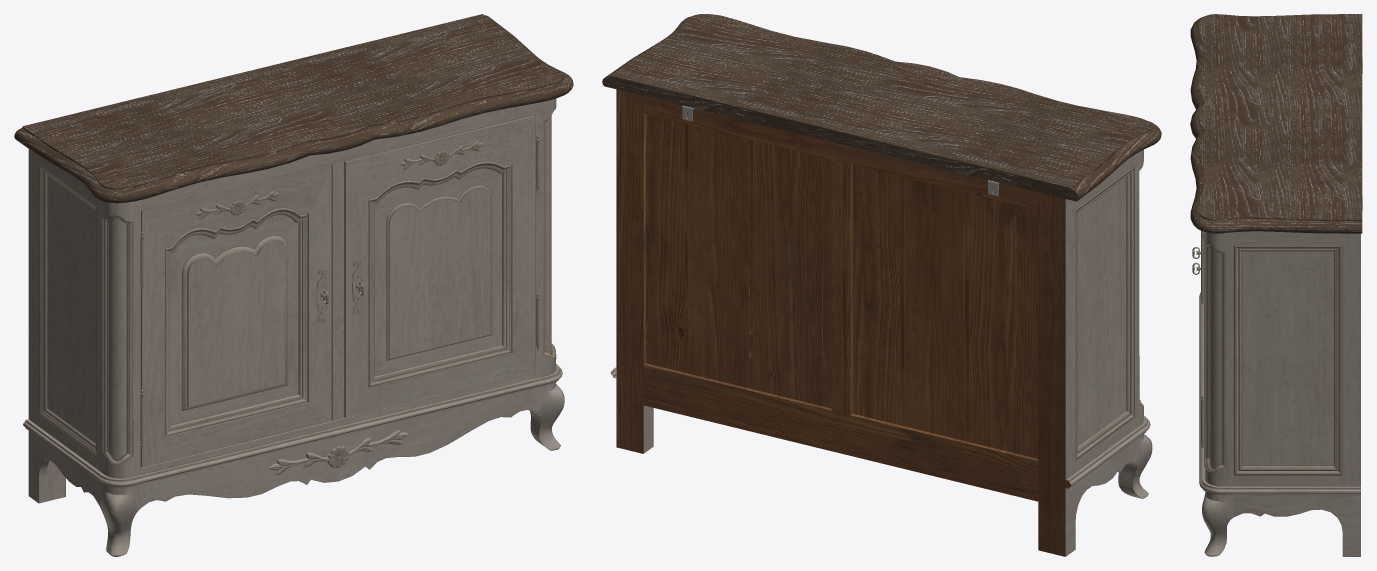
Rendered from example42.gltf.
The picture shows the model from 3 angles, left to right: view 1: azimuth 30°, elevation 25°; view 2: azimuth 150°, elevation 25°; view 3: azimuth 270°, elevation 25°; orthographic projection. The views are drawn at different scales.
Visible parts, largest first — view 1: Object_4, Object_6, Object_3; view 2: Object_2, Object_6, Object_3, Object_4; view 3: Object_6, Object_3, Object_4.
Part boxes in pixels (x1,y1,x2,y2): Object_4: [23, 98, 564, 556]; Object_6: [14, 14, 573, 203]; Object_3: [39, 163, 97, 457]; Object_2: [616, 89, 1071, 556]; Object_6: [602, 14, 1161, 201]; Object_3: [1075, 166, 1134, 459]; Object_4: [610, 89, 1152, 556]; Object_6: [1190, 14, 1362, 233]; Object_3: [1234, 245, 1342, 475]; Object_4: [1192, 231, 1360, 556].
Bounding box in the file's own units: 123 × 91.5 × 42.08.
4 materials, 3 textured.
